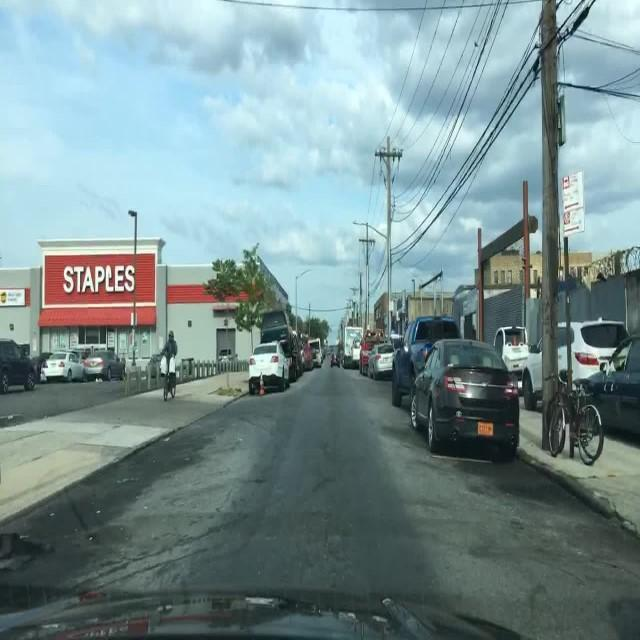normal: (360, 298, 540, 465), (240, 306, 337, 412)
